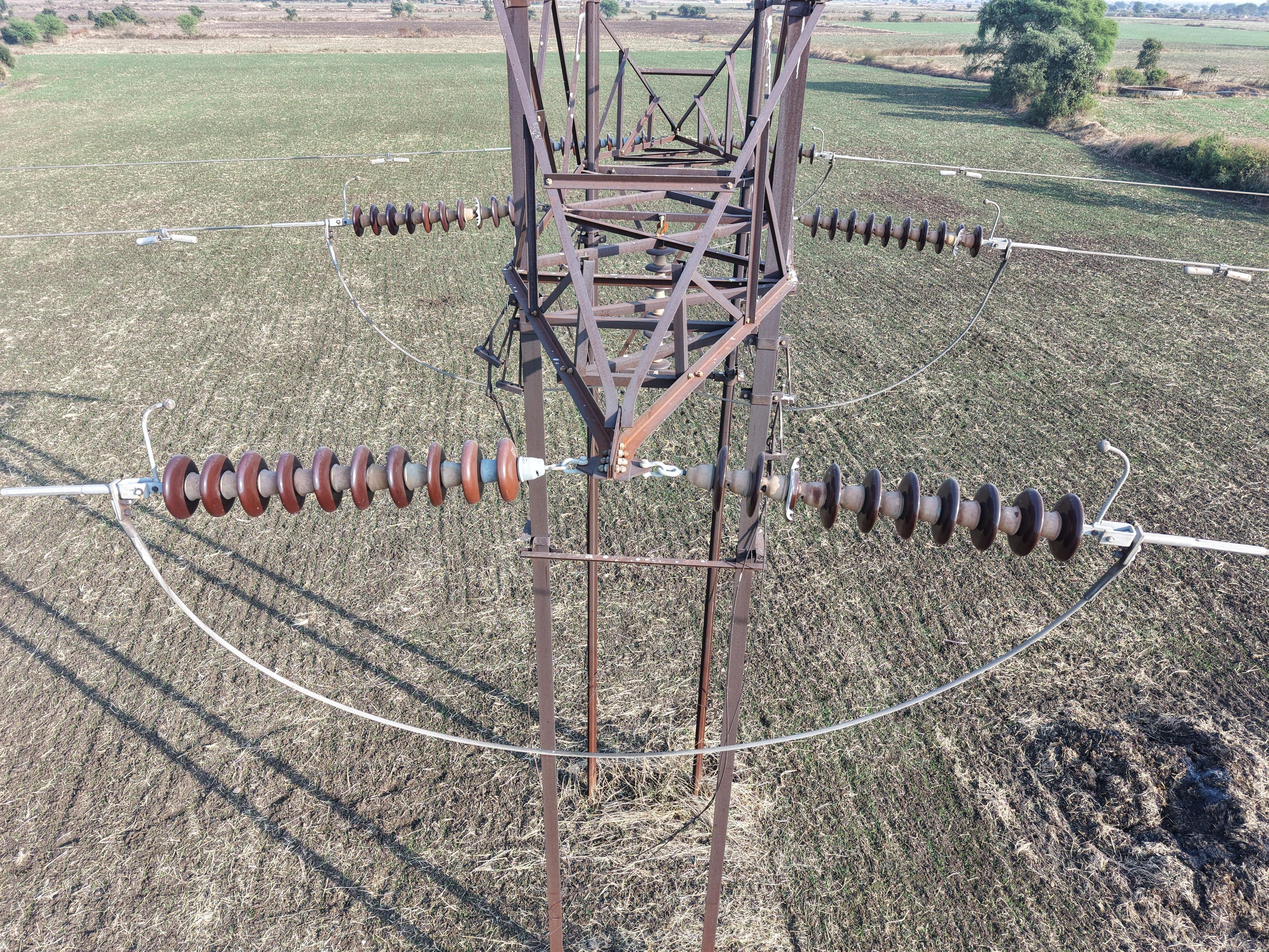broken_insulator: (782, 457, 803, 525), (952, 224, 966, 257), (473, 196, 484, 231)
